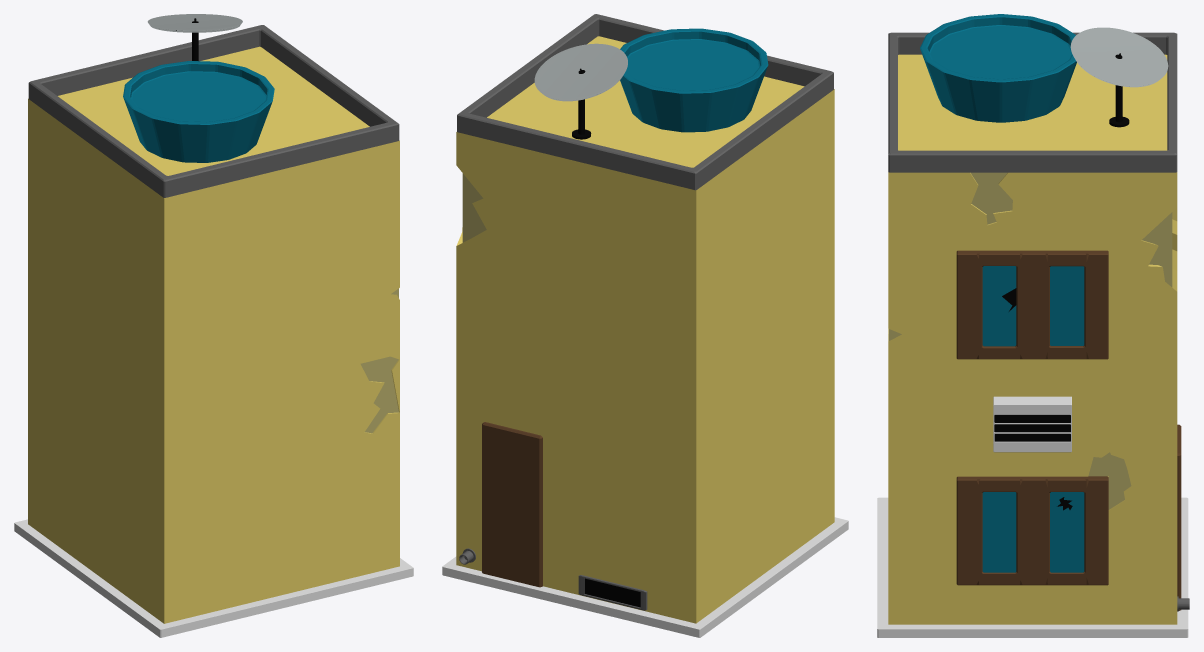
The model's file is Building #02.fbx.
3 renders of one model, left to right at view 1: azimuth 30°, elevation 25°; view 2: azimuth 150°, elevation 25°; view 3: azimuth 270°, elevation 25°, orthographic. The views are drawn at different scales.
Visible parts, largest first — view 1: House.002, House.001, Roof.001, Box, Floor, Metal, Crack.004; view 2: House.002, House.001, Roof.001, Box, Door, Floor, Metal, Crack.005, Exit.002, Exit.001; view 3: House.002, House.001, Box, Wooden.001, Wooden.002, Roof.001, Floor, Window.002, Window.001, Metal, Air.002, Air.001 (+4 smaller).
Part boxes in pixels (left/top/right/bottom): House.002: left=28, top=46, right=399, bottom=411; House.001: left=28, top=312, right=399, bottom=623; Roof.001: left=28, top=25, right=399, bottom=197; Box: left=123, top=61, right=274, bottom=162; Floor: left=14, top=519, right=413, bottom=637; Metal: left=147, top=14, right=242, bottom=32; Crack.004: left=360, top=356, right=398, bottom=433; House.002: left=456, top=36, right=834, bottom=407; House.001: left=456, top=306, right=834, bottom=623; Roof.001: left=457, top=14, right=833, bottom=190; Box: left=620, top=28, right=768, bottom=132; Door: left=482, top=422, right=542, bottom=587; Floor: left=442, top=517, right=848, bottom=637; Metal: left=534, top=43, right=627, bottom=101; Crack.005: left=462, top=173, right=486, bottom=242; Exit.002: left=584, top=578, right=640, bottom=607; Exit.001: left=578, top=575, right=647, bottom=610; House.002: left=888, top=54, right=1177, bottom=399; House.001: left=888, top=399, right=1177, bottom=624; Box: left=920, top=14, right=1076, bottom=122; Wooden.001: left=956, top=250, right=1108, bottom=359; Wooden.002: left=956, top=476, right=1108, bottom=585; Roof.001: left=888, top=32, right=1177, bottom=172; Floor: left=877, top=497, right=1188, bottom=637; Window.002: left=982, top=492, right=1084, bottom=572; Window.001: left=982, top=266, right=1084, bottom=346; Metal: left=1070, top=27, right=1168, bottom=87; Air.002: left=993, top=396, right=1071, bottom=452; Air.001: left=994, top=415, right=1070, bottom=441.
Bounding box in the file's own units: 187 × 348 × 183.
